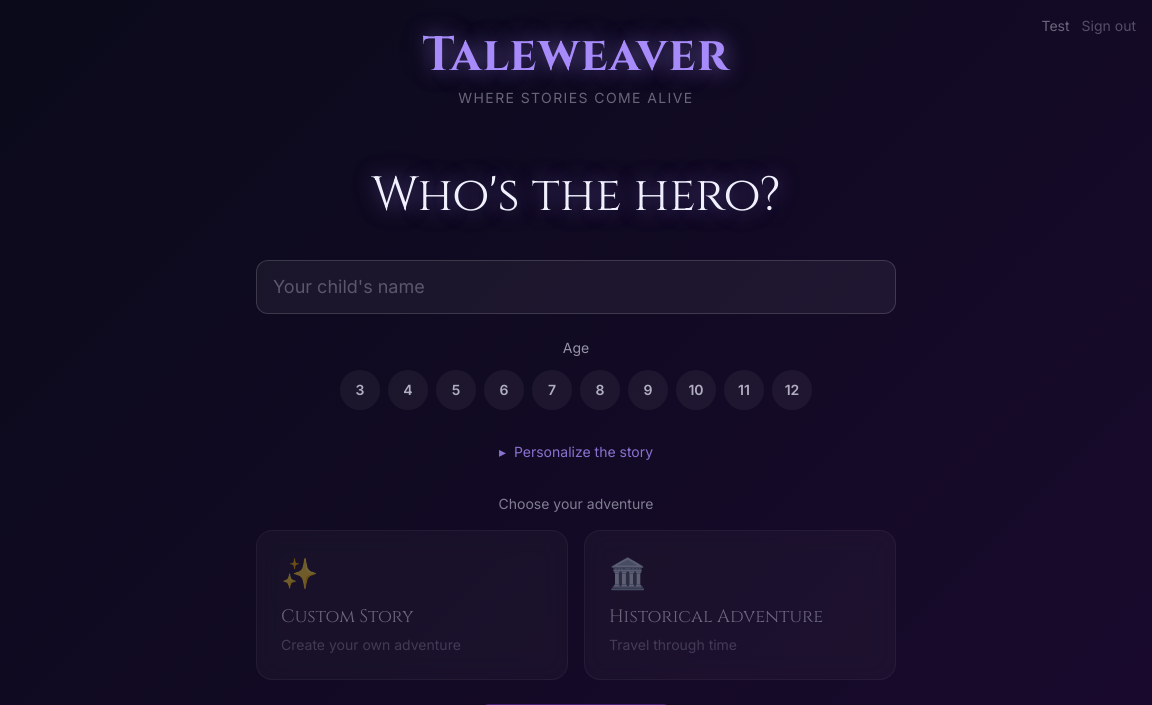
Test case: App › goes back from craft to hero
This screenshot has width=1152, height=705.
Type "Arjun" into the field with placeholder "Your child's name" at [576, 287], box [256, 260, 896, 314]
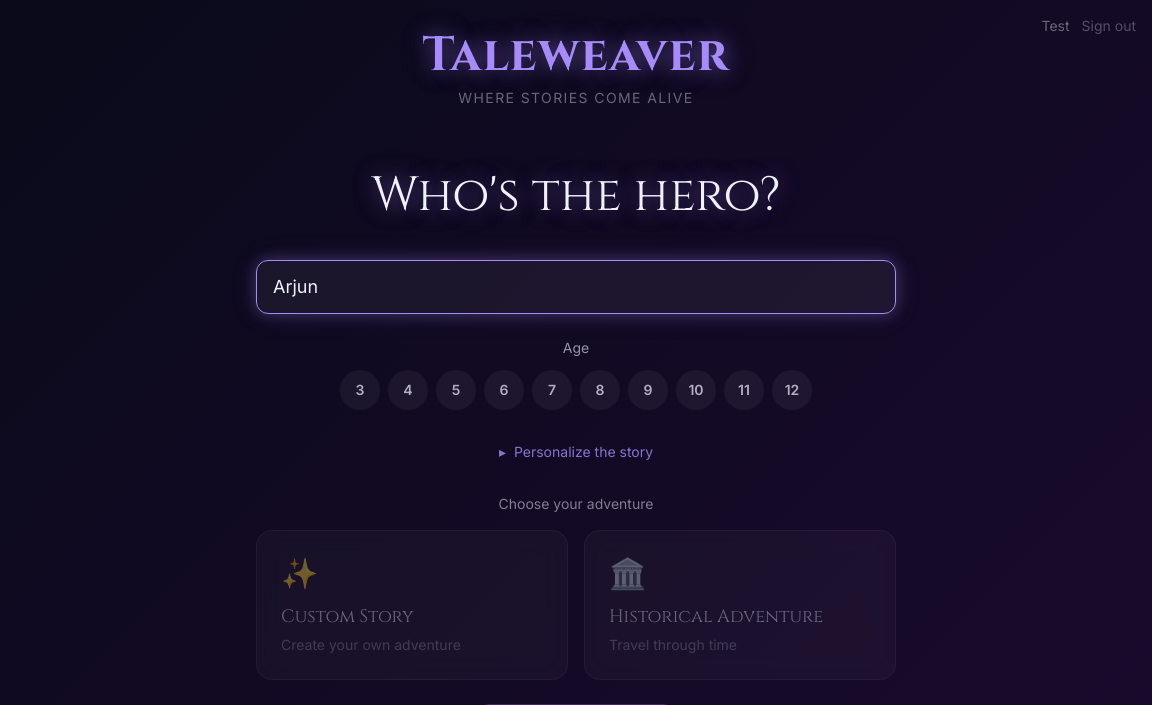
Click the button "7" at [552, 390], box [532, 370, 572, 410]
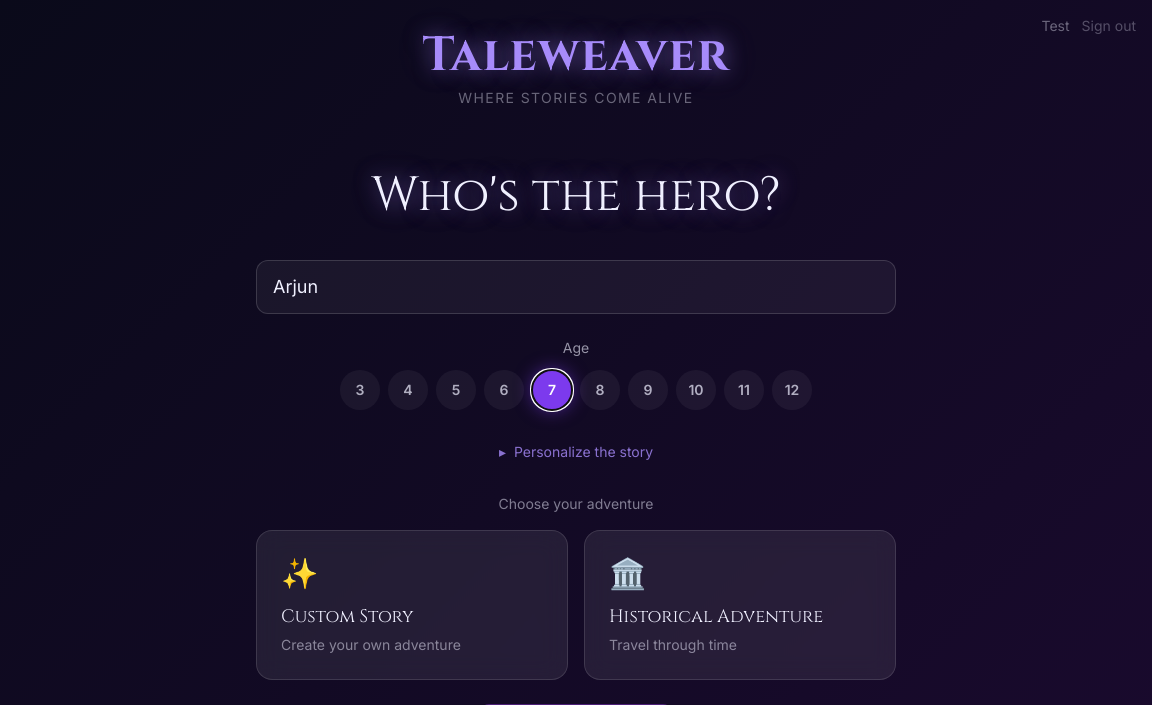
Click the button "✨ Custom Story Create your own adventure" at [412, 605], box [256, 530, 568, 680]
(page scrolled)
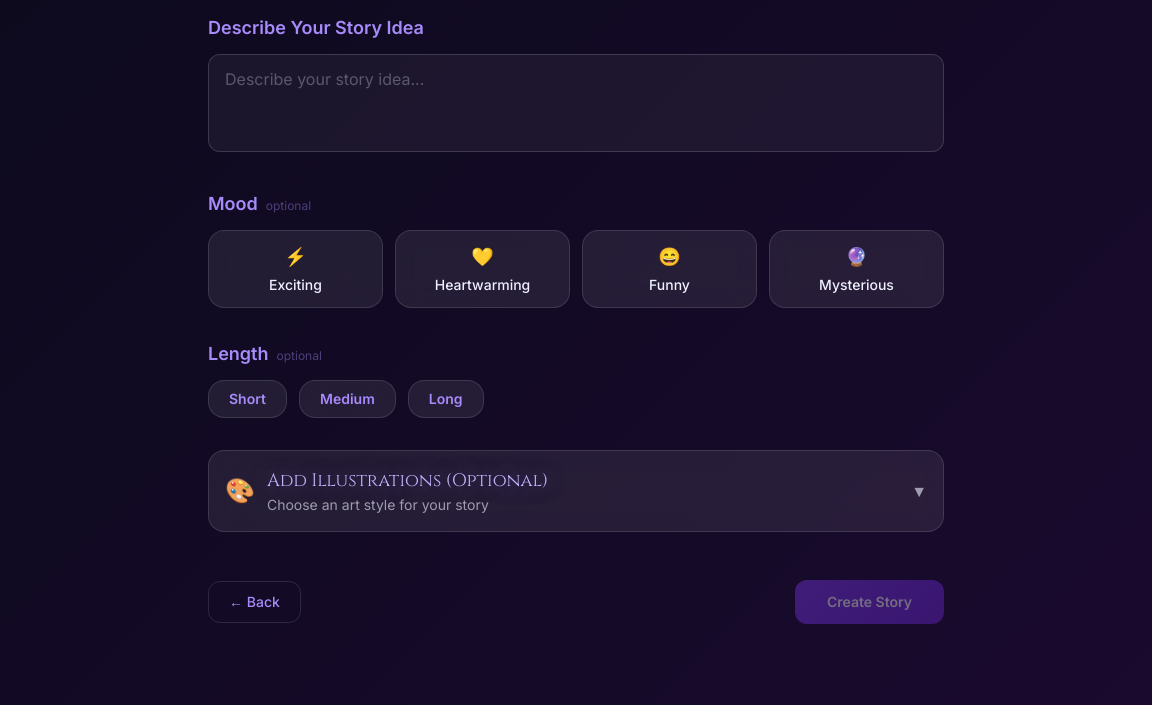
Click the button "← Back" at [254, 602], box [208, 581, 301, 623]
(page scrolled)
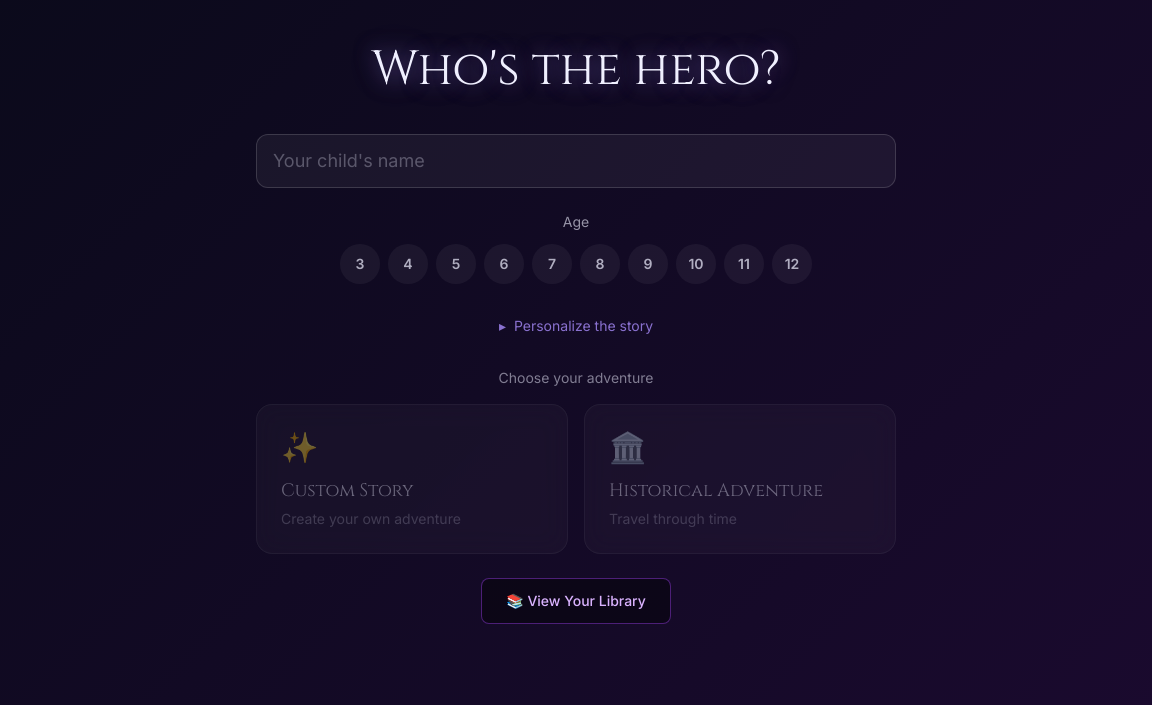
Expected: the heading "Who's the hero?" is shown, [372, 37, 780, 102]
